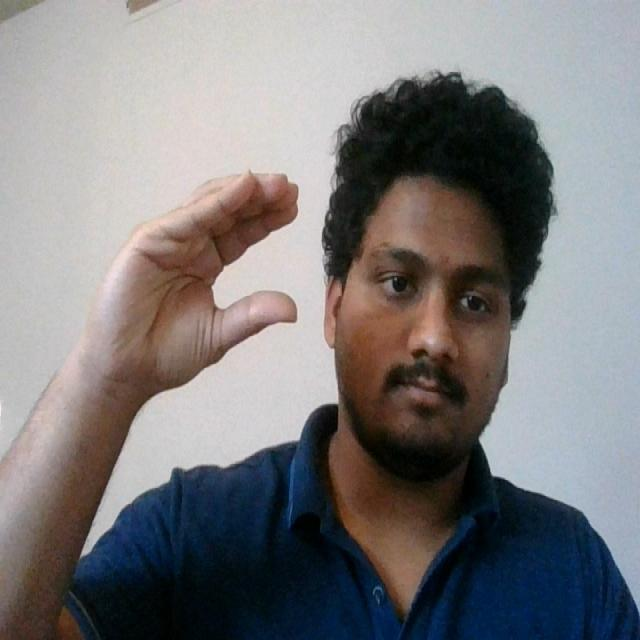No: (76, 160, 308, 406)
